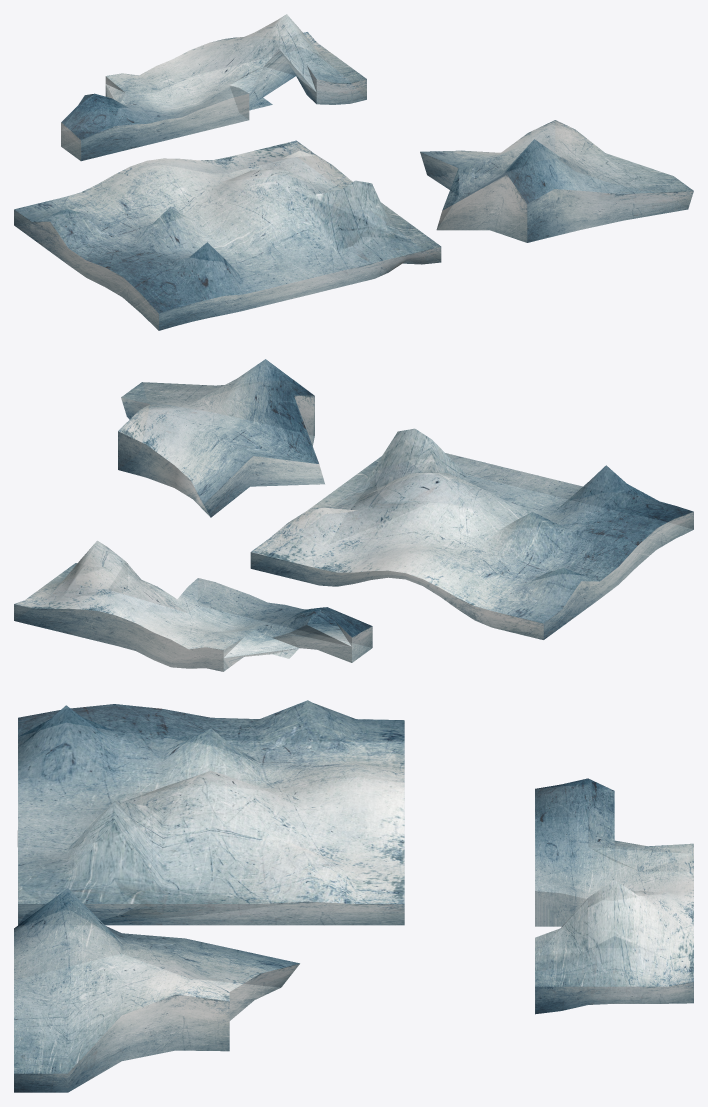
File: Model_SnøPytt.FBX
3 renders of one model, top to bottom at view 1: azimuth 30°, elevation 25°; view 2: azimuth 150°, elevation 25°; view 3: azimuth 270°, elevation 25°, orthographic. The views are drawn at different scales.
Parts seen in each view (by area): view 1: Box003, Box002, Box001; view 2: Box003, Box002, Box001; view 3: Box003, Box001, Box002.
Boxes of the visible parts, bbox=[...] form: Box003: bbox=[14, 140, 441, 330]; Box002: bbox=[61, 14, 366, 161]; Box001: bbox=[420, 120, 693, 242]; Box003: bbox=[250, 428, 693, 639]; Box002: bbox=[14, 540, 372, 671]; Box001: bbox=[118, 359, 324, 517]; Box003: bbox=[17, 700, 404, 925]; Box001: bbox=[14, 888, 299, 1092]; Box002: bbox=[535, 778, 693, 1014].
Bounding box in the file's own units: 210 × 34.15 × 174.
1 material, 1 textured.
